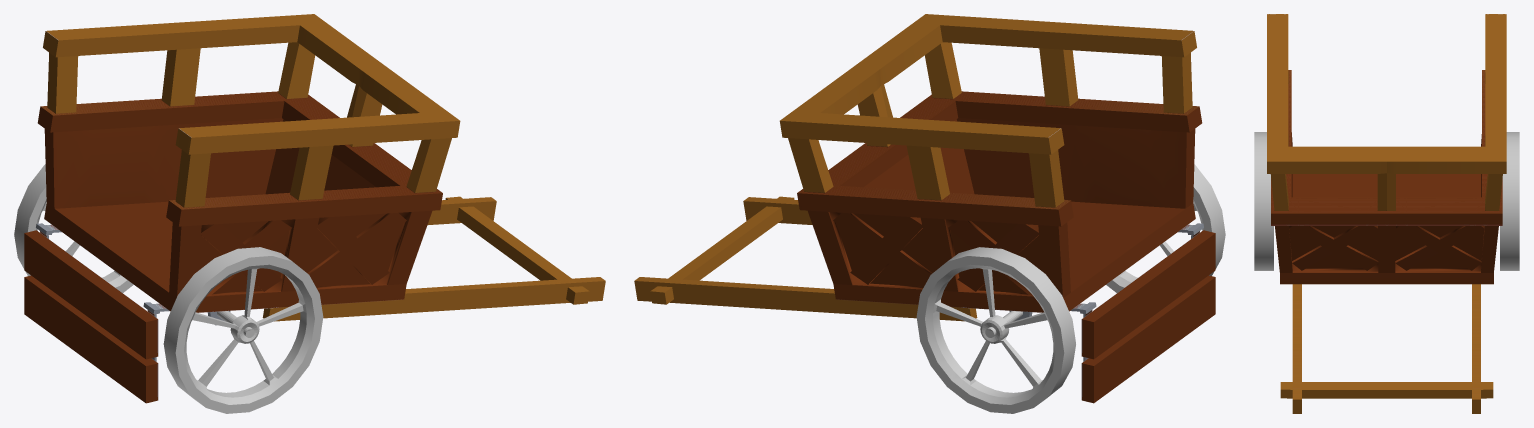
The model's file is doodad_wheelCart_mesh.fbx.
The picture shows the model from 3 angles, left to right: view 1: azimuth 30°, elevation 25°; view 2: azimuth 150°, elevation 25°; view 3: azimuth 270°, elevation 25°; orthographic projection. The views are drawn at different scales.
Parts seen in each view (by area): view 1: doodad_wheelCart_mesh; view 2: doodad_wheelCart_mesh; view 3: doodad_wheelCart_mesh.
Boxes of the visible parts, bbox=[...] form: doodad_wheelCart_mesh: bbox=[14, 14, 605, 413]; doodad_wheelCart_mesh: bbox=[634, 14, 1225, 413]; doodad_wheelCart_mesh: bbox=[1254, 14, 1519, 413].
Size of the model in its own units: 19.87 by 11.52 by 11.99.
